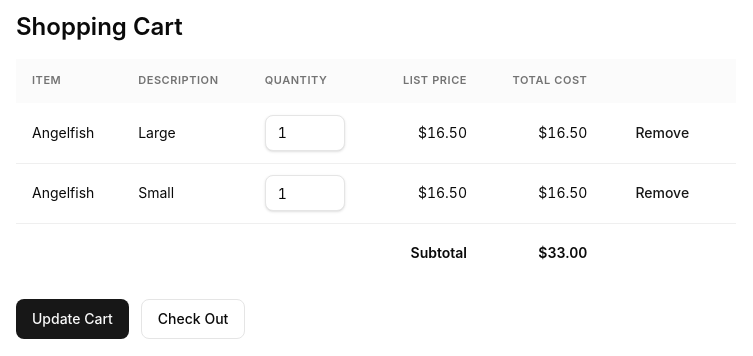
Scenario: /cart › [SWHR3-C-0048] Remove deletes that item and the row goes away
The image size is (753, 356).
Click the button "Remove" in the row of "Large". click: {"x": 662, "y": 133}
box: [619,113,705,153]
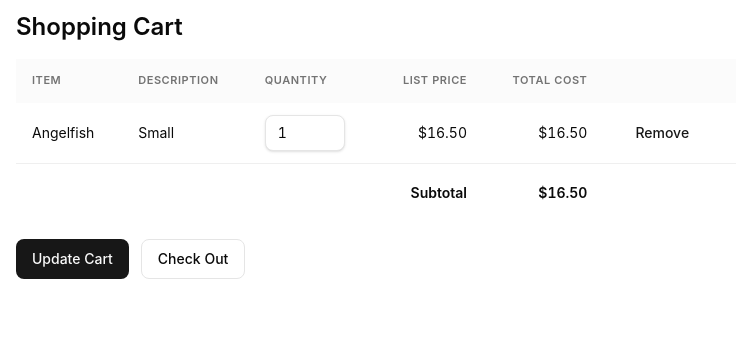
Expected: the row with test id "cart-line" shows "Small", [138,124,174,141]
Result: the number of rows with test id "cart-line" is 1 at [16,103,736,163]
